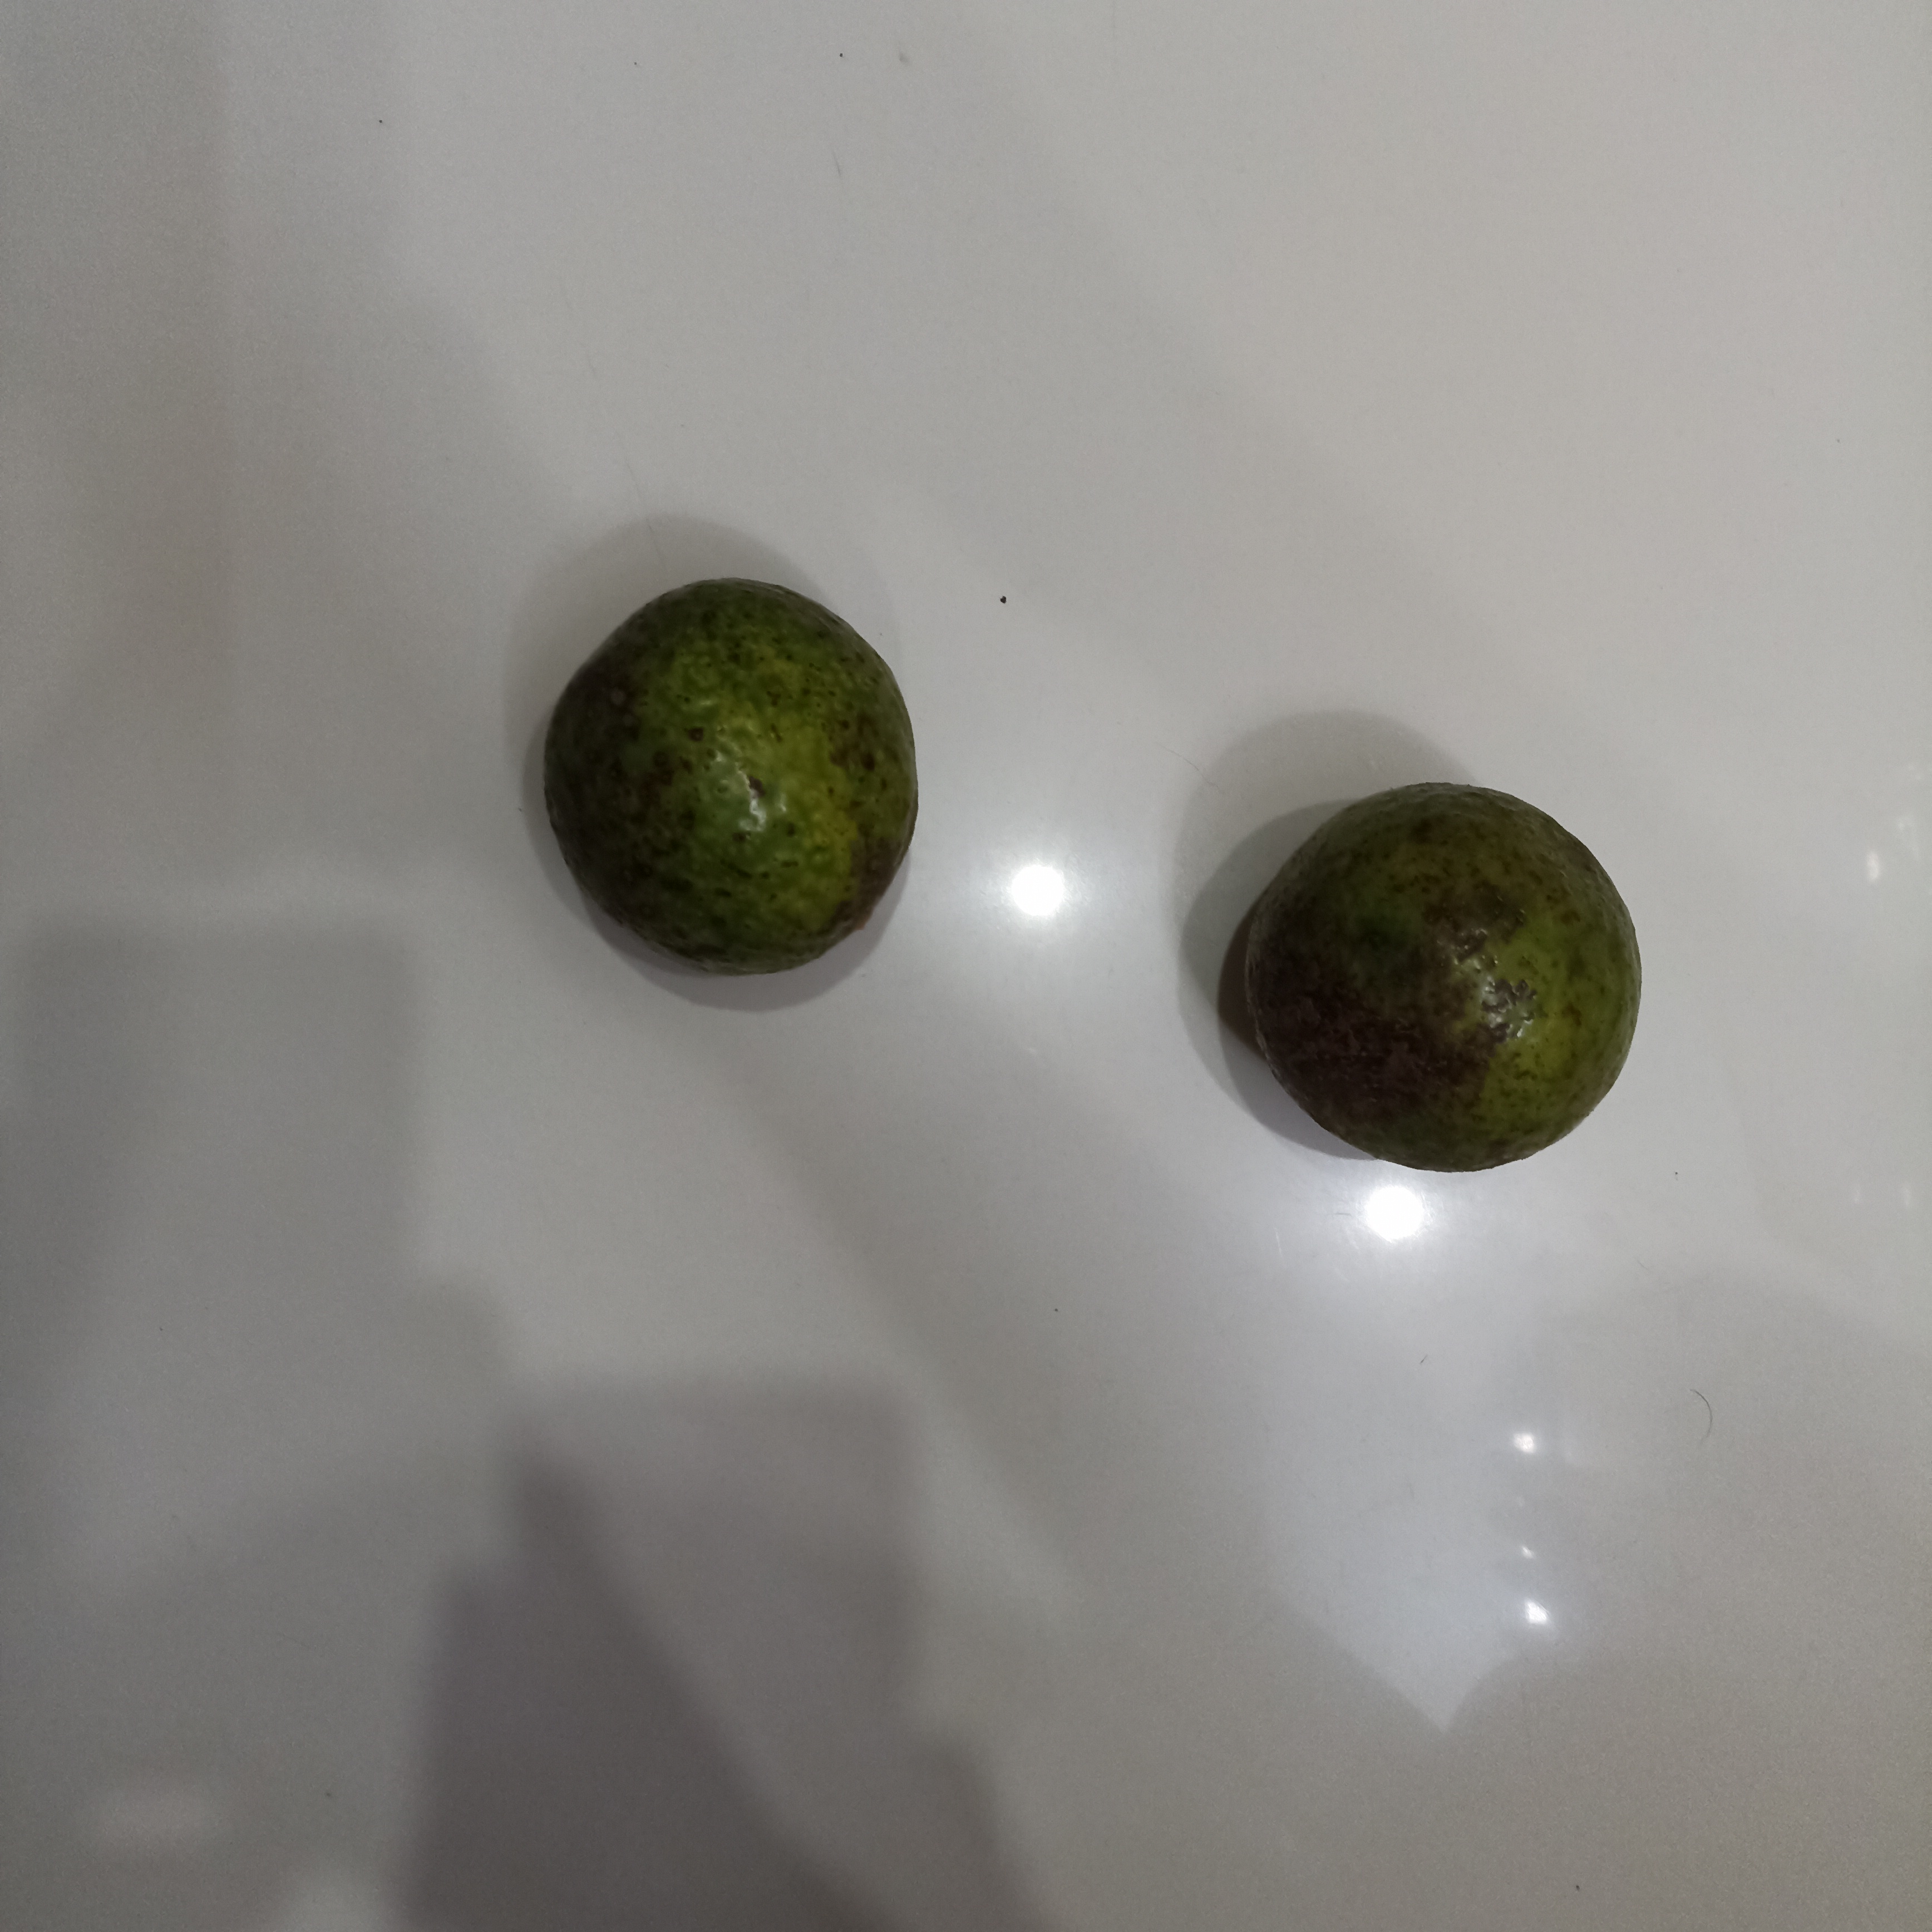Bo: (1235, 782, 1642, 1173), (541, 577, 922, 980)
